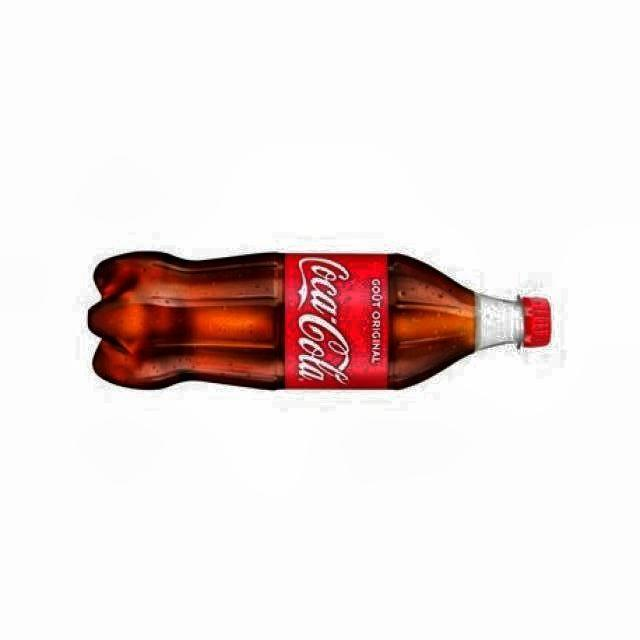plastic: (88, 252, 551, 388)
